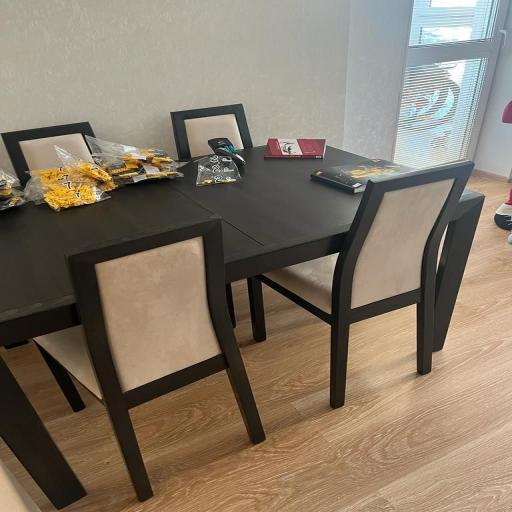bottle: (17, 215, 277, 505), (236, 153, 474, 409)
phone: (0, 132, 489, 508)
